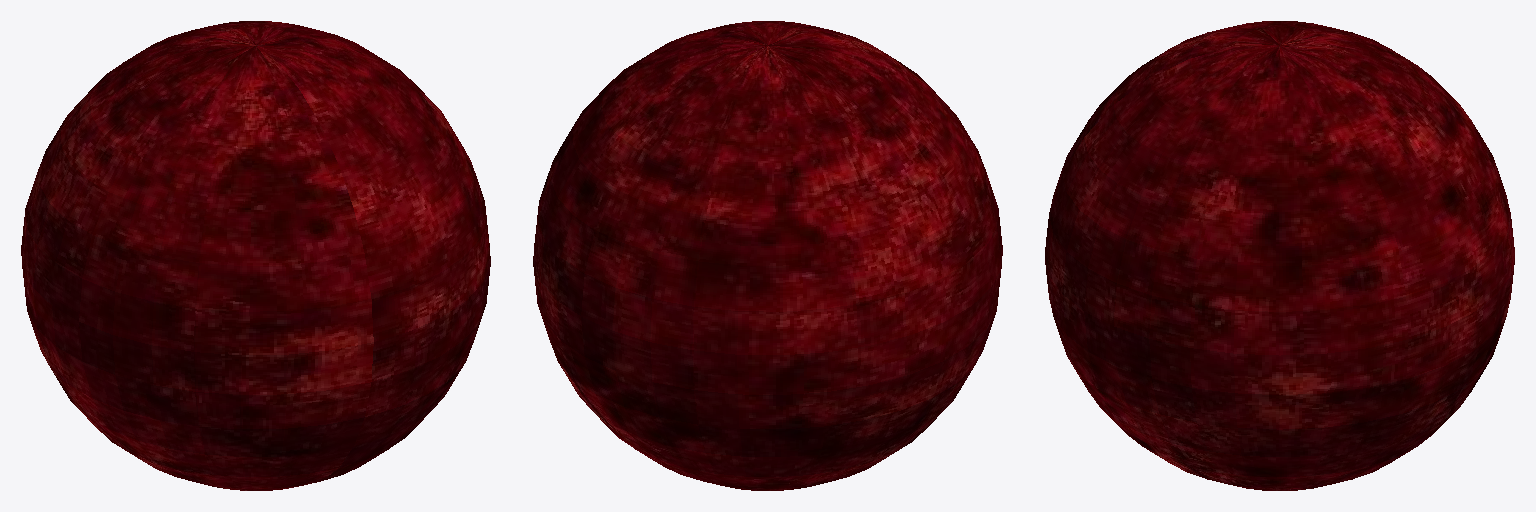
3 renders of one model, left to right at view 1: azimuth 30°, elevation 25°; view 2: azimuth 150°, elevation 25°; view 3: azimuth 270°, elevation 25°, orthographic.
Visible parts, largest first — view 1: Sphere; view 2: Sphere; view 3: Sphere.
Boxes of the visible parts, box(x1,y1,x2,y2) form: Sphere: box(21, 21, 490, 490); Sphere: box(533, 21, 1002, 490); Sphere: box(1045, 21, 1514, 490).
Bounding box in the file's own units: 2 × 1.97 × 2.
Materials: 1 (1 with a texture image).